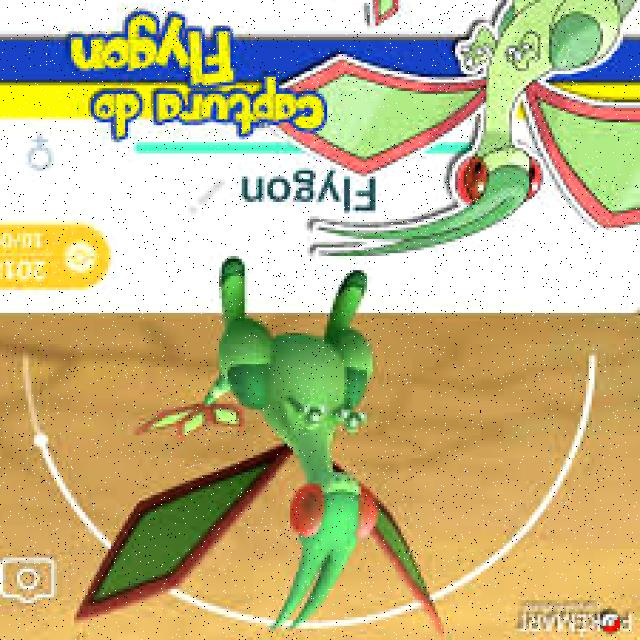flygon: (70, 257, 448, 634), (270, 0, 639, 256)
